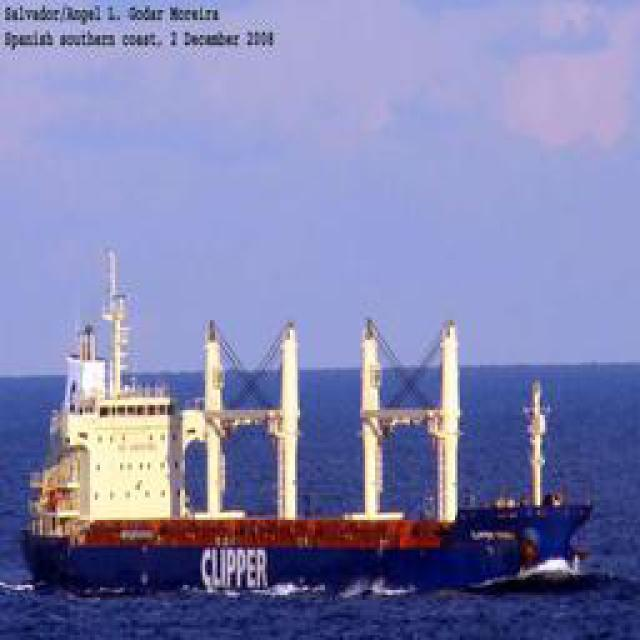Ship: (25, 245, 610, 600)
